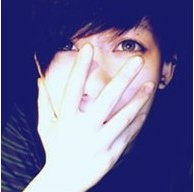face: (43, 4, 163, 145)
